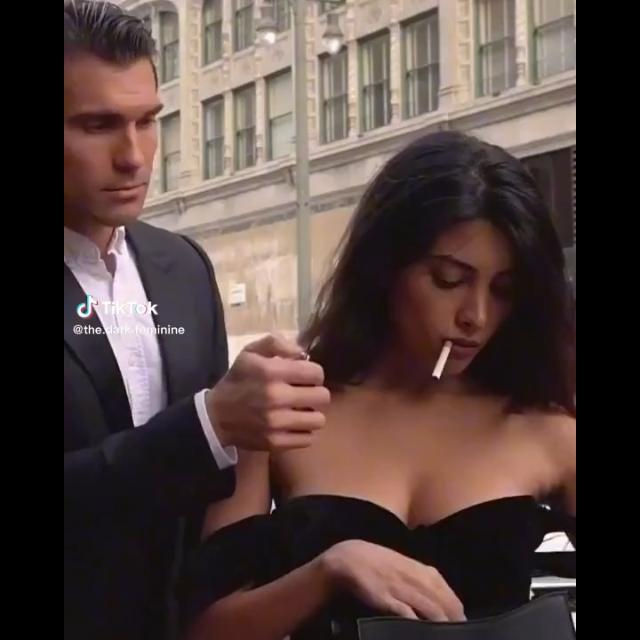rokok: (419, 333, 467, 387)
